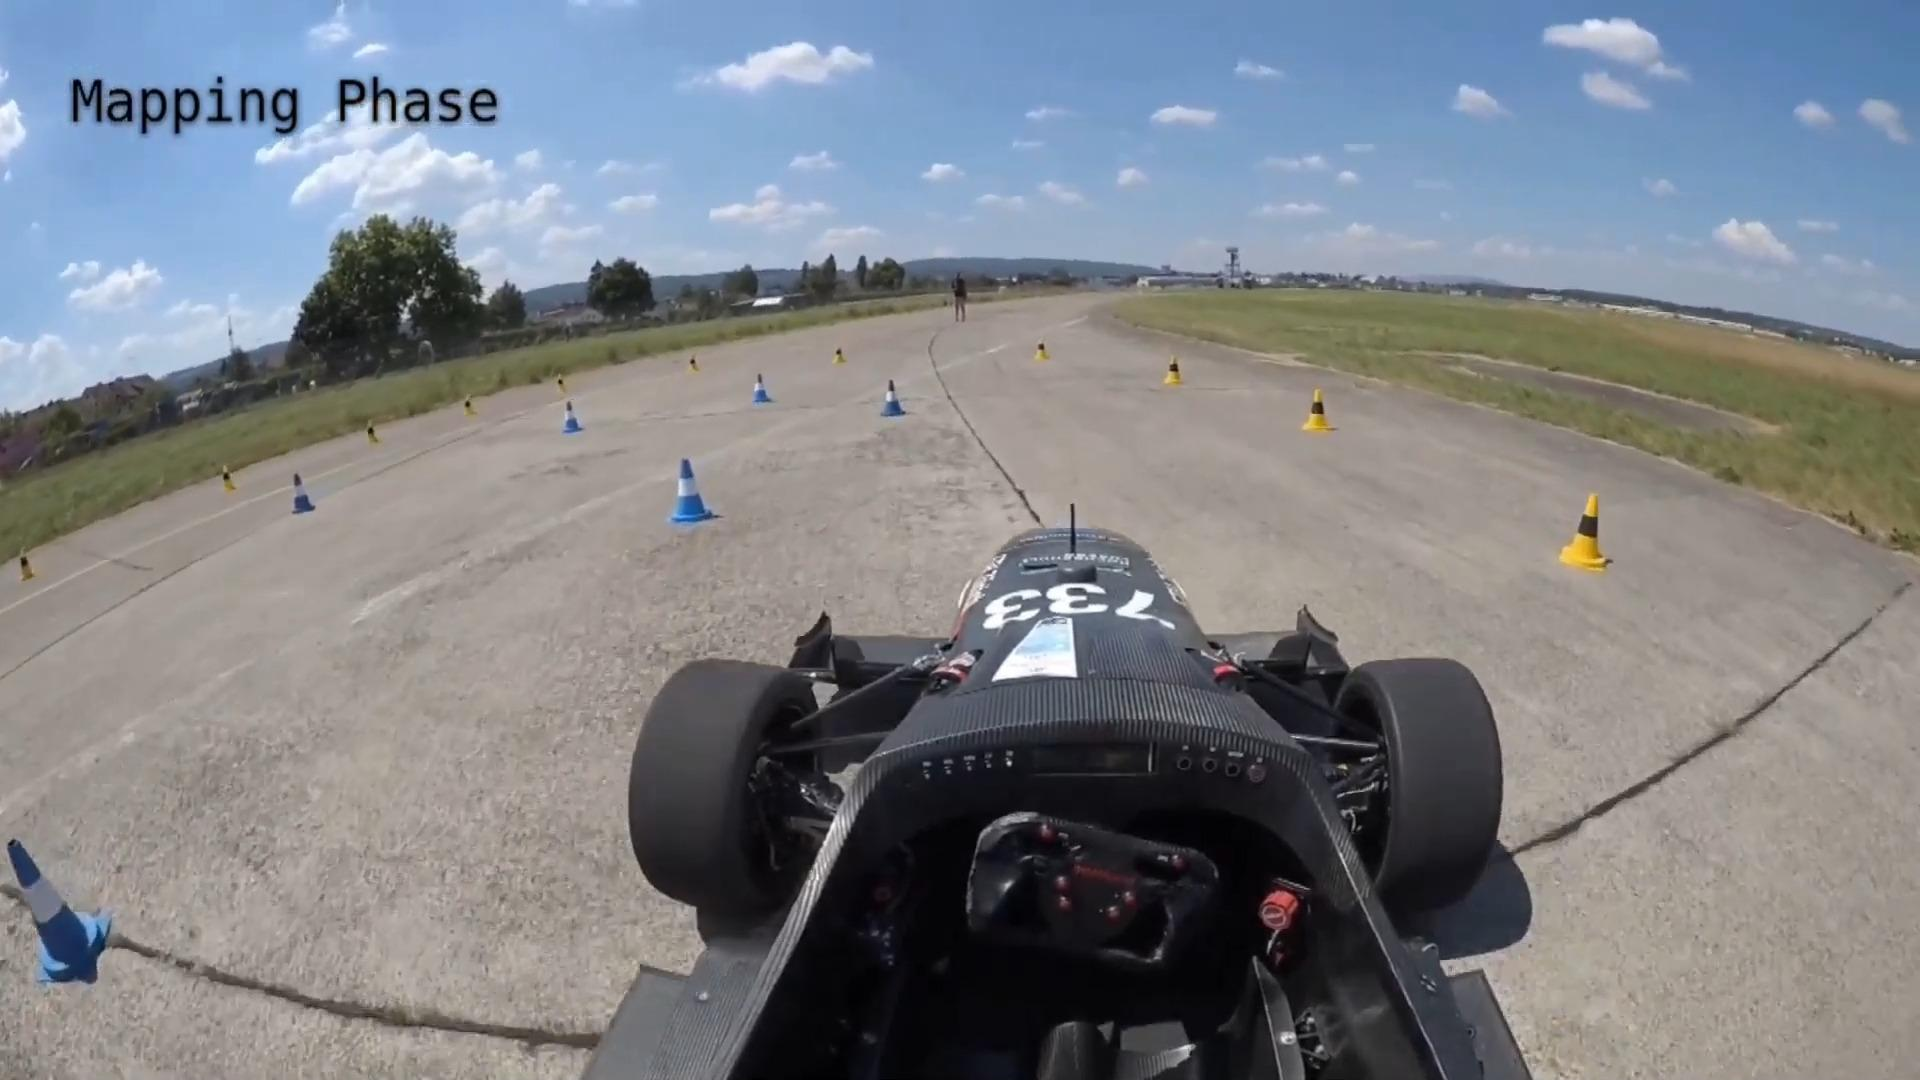blue_cone: (0, 829, 123, 992), (661, 453, 716, 528), (287, 469, 319, 518), (880, 378, 909, 420), (559, 398, 586, 436), (751, 371, 773, 406)
yellow_cone: (1558, 490, 1619, 576), (1299, 386, 1340, 433), (1163, 355, 1187, 386), (16, 549, 37, 583), (218, 465, 240, 495), (364, 419, 384, 447), (1034, 338, 1051, 361), (830, 345, 848, 365), (463, 398, 477, 417)
